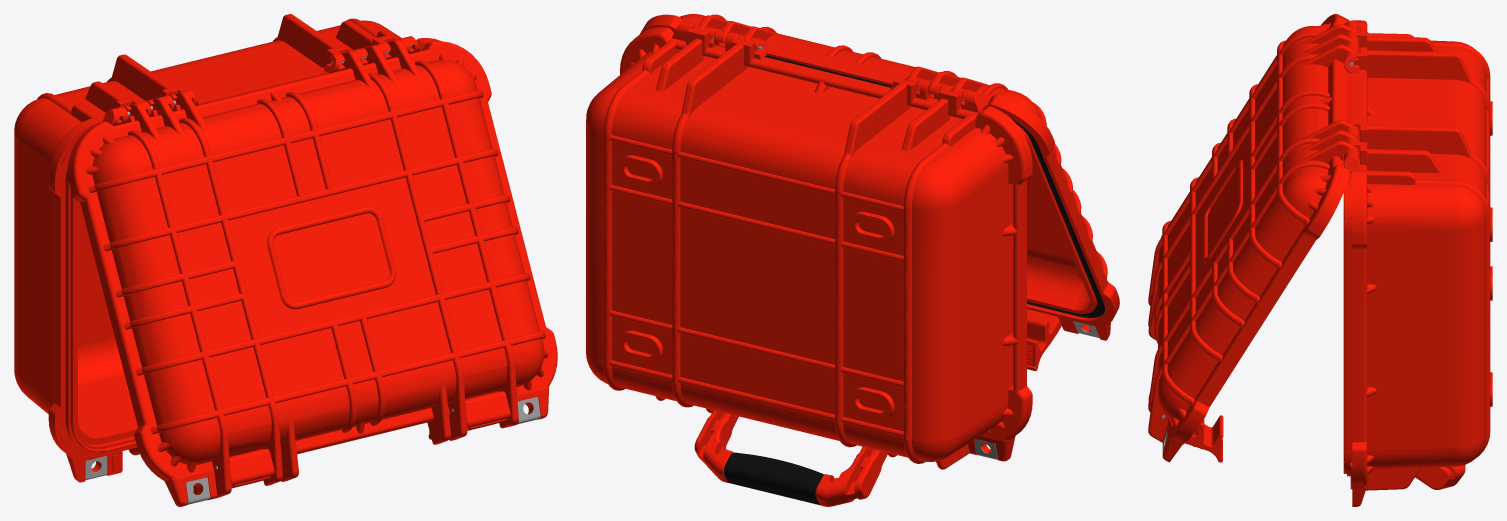
3 renders of one model, left to right at view 1: azimuth 30°, elevation 25°; view 2: azimuth 150°, elevation 25°; view 3: azimuth 270°, elevation 25°, orthographic. The views are drawn at different scales.
Visible parts, largest first — view 1: Lid_001, Bottom_001; view 2: Bottom_001, Lid_001; view 3: Bottom_001, Lid_001.
Boxes of the visible parts, x1,y1,x2,y2 form: Lid_001: (68, 39, 557, 506); Bottom_001: (14, 14, 441, 482); Bottom_001: (586, 20, 1032, 506); Lid_001: (640, 14, 1119, 371); Bottom_001: (1343, 20, 1492, 506); Lid_001: (1148, 14, 1359, 462).
Size of the model in its own units: 346 by 328 by 270.
